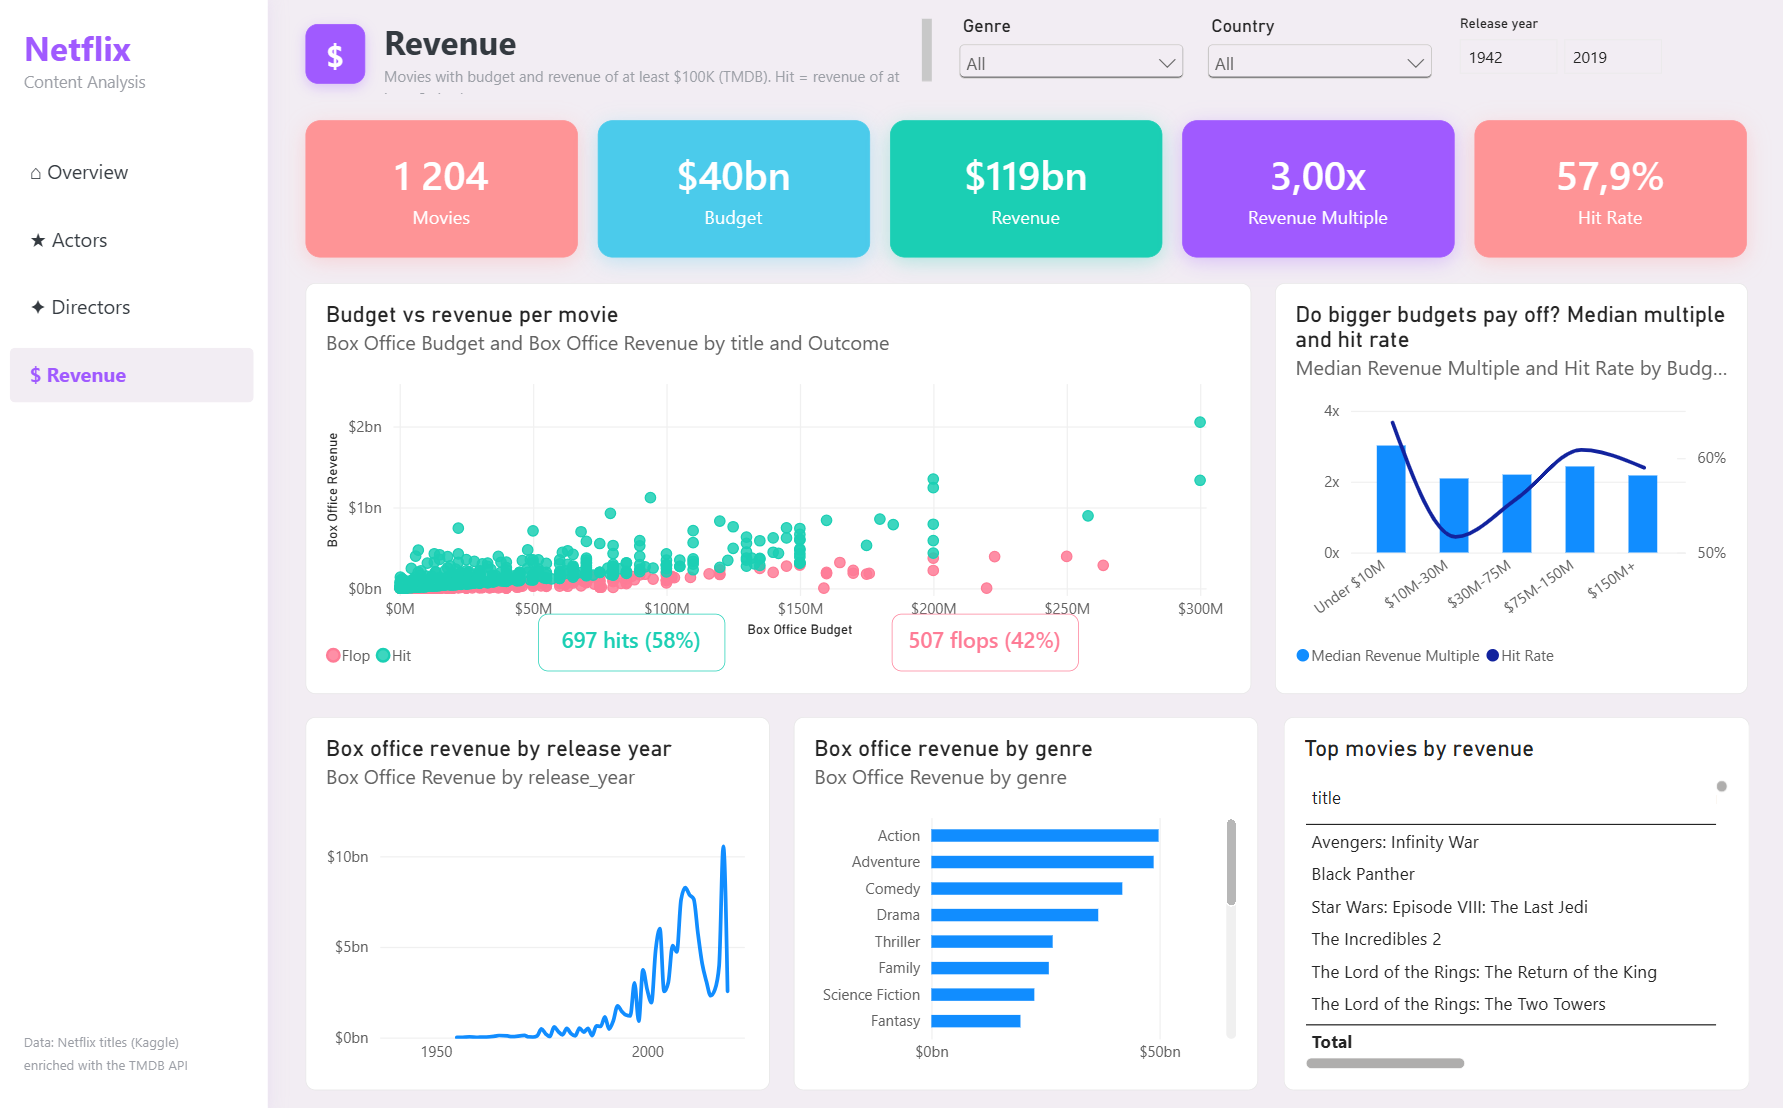

Layout of this report page (visuals, bound fields, positions):
{"tool":"powerbi","page":{"name":"Revenue","canvas":[1440,900],"ordinal":3},"visuals":[{"type":"textbox","box":[0,0,220,900],"z":1000},{"type":"textbox","box":[24,24,180,64],"z":2000},{"type":"actionButton","box":[12,120,196,44],"z":3000},{"type":"actionButton","box":[12,174,196,44],"z":4000},{"type":"actionButton","box":[12,228,196,44],"z":5000},{"type":"actionButton","box":[12,282,196,44],"z":6000},{"type":"textbox","box":[24,830,180,50],"z":7000},{"type":"slicer","fields":{"Values":["movie_genres.genre"]},"box":[770,16,190,64],"z":8000},{"type":"slicer","fields":{"Values":["movie_countries.country"]},"box":[970,16,190,64],"z":9000},{"type":"slicer","fields":{"Values":["movies.release_year"]},"box":[1170,16,240,64],"z":10000},{"type":"textbox","box":[250,22,48,48],"z":11000},{"type":"textbox","box":[314,18,440,60],"z":12000},{"type":"card","fields":{"Values":["_Measures.Box Office Movies"]},"box":[250,100,219,110],"z":13000},{"type":"card","fields":{"Values":["_Measures.Box Office Budget"]},"box":[485,100,219,110],"z":14000},{"type":"card","fields":{"Values":["_Measures.Box Office Revenue"]},"box":[720,100,219,110],"z":15000},{"type":"card","fields":{"Values":["_Measures.Revenue Multiple"]},"box":[955,100,219,110],"z":16000},{"type":"card","fields":{"Values":["_Measures.Hit Rate"]},"box":[1190,100,219,110],"z":17000},{"type":"scatterChart","title":"Budget vs revenue per movie","fields":{"Category":["movies.title"],"Series":["movies.Outcome"],"X":["_Measures.Box Office Budget"],"Y":["_Measures.Box Office Revenue"]},"box":[250,230,760,330],"z":18000},{"type":"card","fields":{"Values":["_Measures.Hits Label"]},"box":[437,496,150,46],"z":19000},{"type":"card","fields":{"Values":["_Measures.Flops Label"]},"box":[721,496,150,46],"z":20000},{"type":"lineClusteredColumnComboChart","title":"Do bigger budgets pay off? Median multiple and hit rate","fields":{"Category":["movies.Budget Band"],"Y":["_Measures.Median Revenue Multiple"],"Y2":["_Measures.Hit Rate"]},"box":[1030,230,380,330],"z":21000},{"type":"lineChart","title":"Box office revenue by release year","fields":{"Category":["movies.release_year"],"Y":["_Measures.Box Office Revenue"]},"box":[250,580,373,300],"z":22000},{"type":"clusteredBarChart","title":"Box office revenue by genre","fields":{"Category":["movie_genres.genre"],"Y":["_Measures.Box Office Revenue"]},"box":[643,580,373,300],"z":23000},{"type":"tableEx","title":"Top movies by revenue","fields":{"Values":["movies.title","movies.release_year","_Measures.Box Office Budget","_Measures.Box Office Revenue","_Measures.Revenue Multiple","movies.Outcome"]},"box":[1036,580,374,300],"z":24000}]}

Visuals, with their boxes on the page's 1440x900 design canvas (x1, y1, x2, y2). These are canvas units, not pixel positions in the 1783x1108 screenshot, which may show the page scaled, cropped or inside an application window:
textbox: {"left": 0, "top": 0, "right": 220, "bottom": 900}
textbox: {"left": 24, "top": 24, "right": 204, "bottom": 88}
actionButton: {"left": 12, "top": 120, "right": 208, "bottom": 164}
actionButton: {"left": 12, "top": 174, "right": 208, "bottom": 218}
actionButton: {"left": 12, "top": 228, "right": 208, "bottom": 272}
actionButton: {"left": 12, "top": 282, "right": 208, "bottom": 326}
textbox: {"left": 24, "top": 830, "right": 204, "bottom": 880}
slicer - movie_genres.genre: {"left": 770, "top": 16, "right": 960, "bottom": 80}
slicer - movie_countries.country: {"left": 970, "top": 16, "right": 1160, "bottom": 80}
slicer - movies.release_year: {"left": 1170, "top": 16, "right": 1410, "bottom": 80}
textbox: {"left": 250, "top": 22, "right": 298, "bottom": 70}
textbox: {"left": 314, "top": 18, "right": 754, "bottom": 78}
card - _Measures.Box Office Movies: {"left": 250, "top": 100, "right": 469, "bottom": 210}
card - _Measures.Box Office Budget: {"left": 485, "top": 100, "right": 704, "bottom": 210}
card - _Measures.Box Office Revenue: {"left": 720, "top": 100, "right": 939, "bottom": 210}
card - _Measures.Revenue Multiple: {"left": 955, "top": 100, "right": 1174, "bottom": 210}
card - _Measures.Hit Rate: {"left": 1190, "top": 100, "right": 1409, "bottom": 210}
"Budget vs revenue per movie" scatterChart: {"left": 250, "top": 230, "right": 1010, "bottom": 560}
card - _Measures.Hits Label: {"left": 437, "top": 496, "right": 587, "bottom": 542}
card - _Measures.Flops Label: {"left": 721, "top": 496, "right": 871, "bottom": 542}
"Do bigger budgets pay off? Median multiple and hit rate" lineClusteredColumnComboChart: {"left": 1030, "top": 230, "right": 1410, "bottom": 560}
"Box office revenue by release year" lineChart: {"left": 250, "top": 580, "right": 623, "bottom": 880}
"Box office revenue by genre" clusteredBarChart: {"left": 643, "top": 580, "right": 1016, "bottom": 880}
"Top movies by revenue" tableEx: {"left": 1036, "top": 580, "right": 1410, "bottom": 880}
